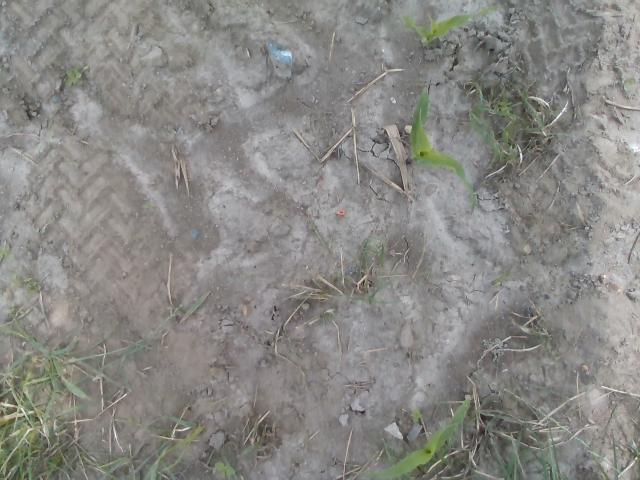Maize: (358, 398, 472, 480), (405, 84, 477, 197), (400, 6, 497, 44)
Weeds: (8, 272, 42, 296), (64, 64, 86, 88), (212, 460, 236, 478), (408, 406, 422, 424), (623, 73, 636, 91), (0, 243, 12, 260), (492, 274, 507, 287), (142, 201, 152, 210)
